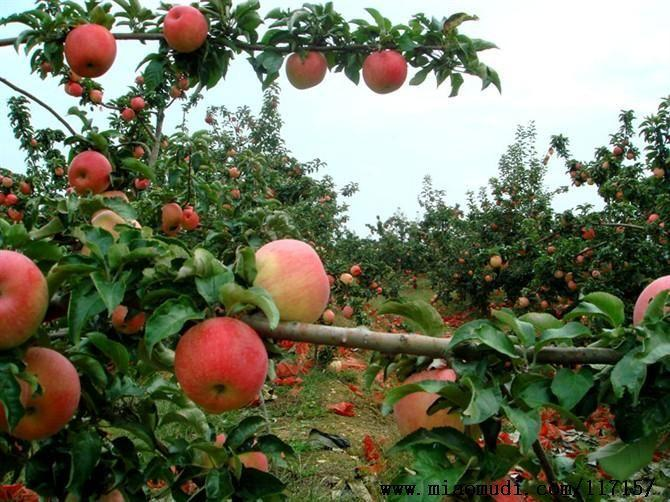apple: (171, 317, 266, 412), (246, 238, 331, 326), (12, 349, 79, 439), (1, 248, 48, 349), (63, 25, 117, 79), (160, 5, 207, 52), (67, 150, 111, 195), (361, 49, 406, 93), (283, 49, 326, 89)
